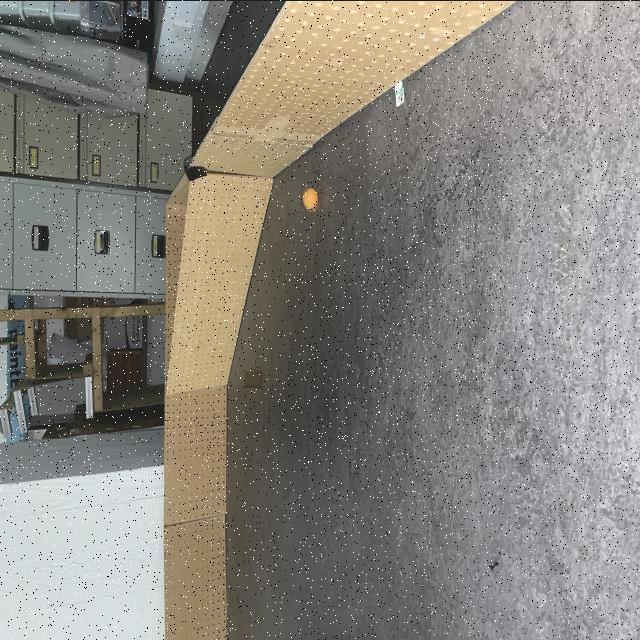ping-pong-ball: (303, 186, 318, 207)
